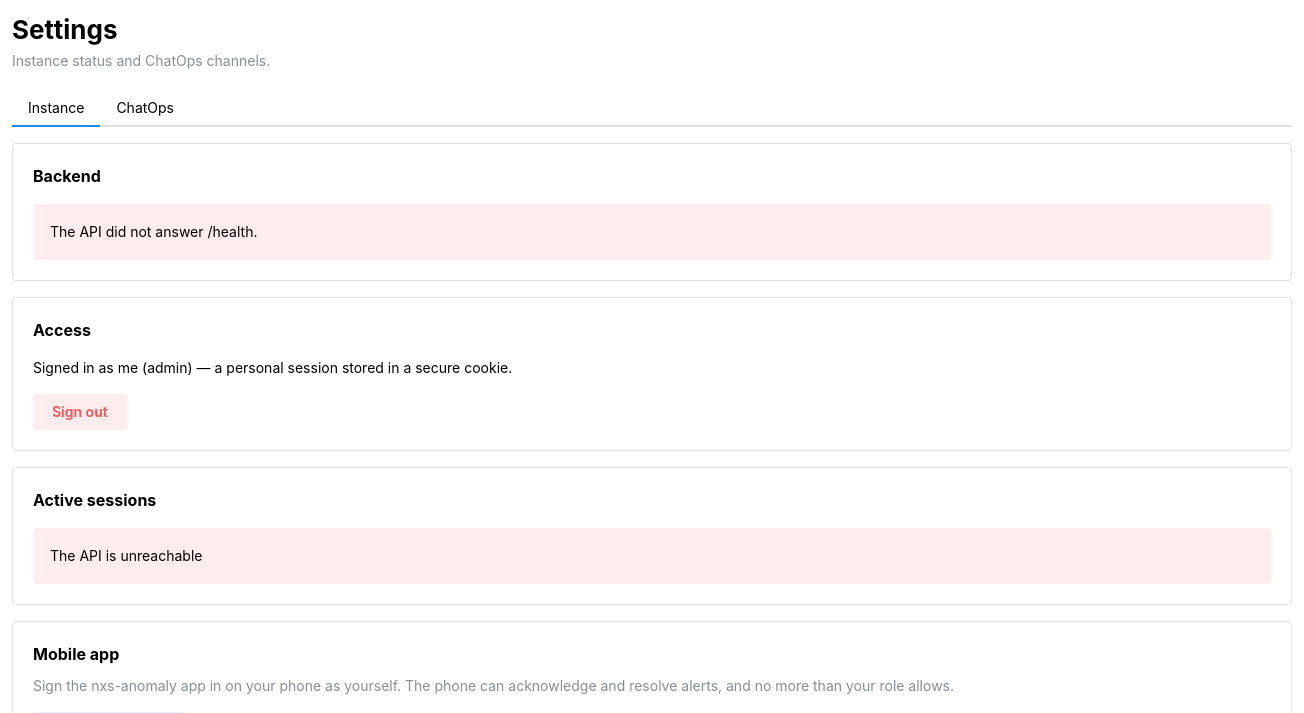
Test case: SettingsPage ChatOps tab › surfaces a failed channel read instead of an empty list
The image size is (1304, 713).
Click the tab "ChatOps" at (145, 109), box [100, 91, 190, 127]
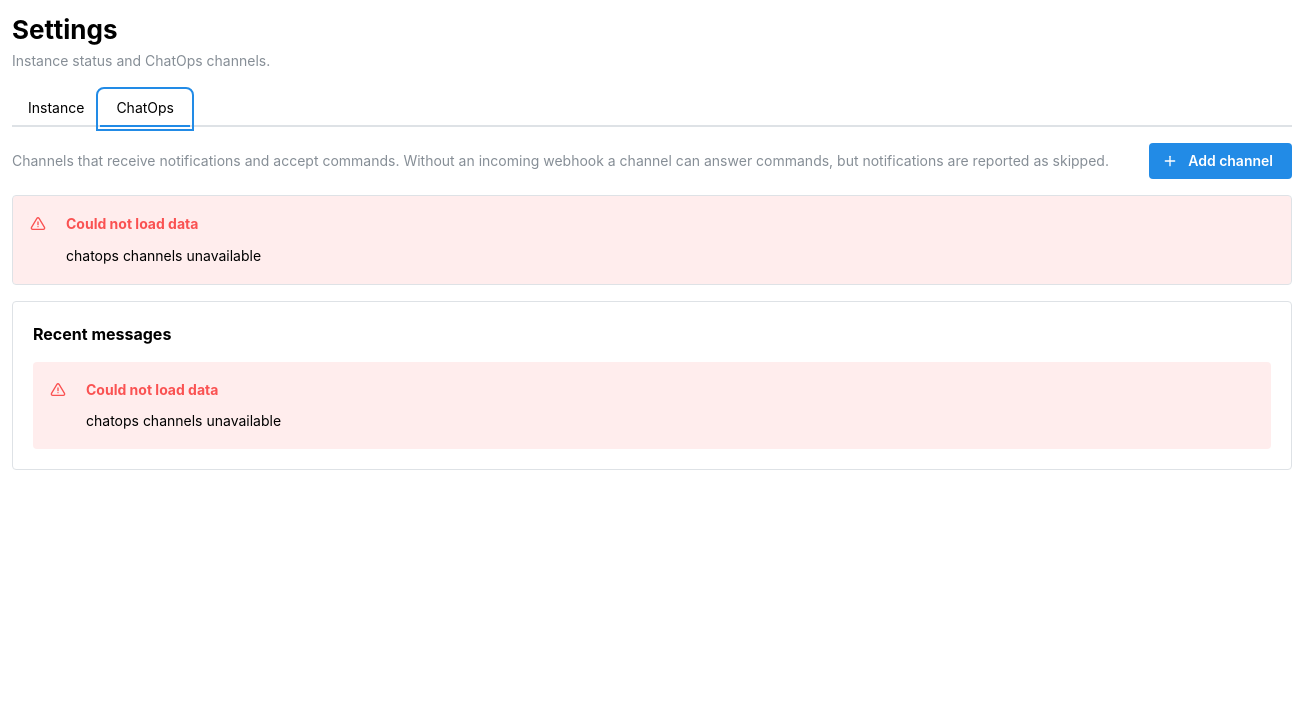
expect the 1st text "chatops channels unavailable" is shown: met, box [66, 247, 261, 264]
